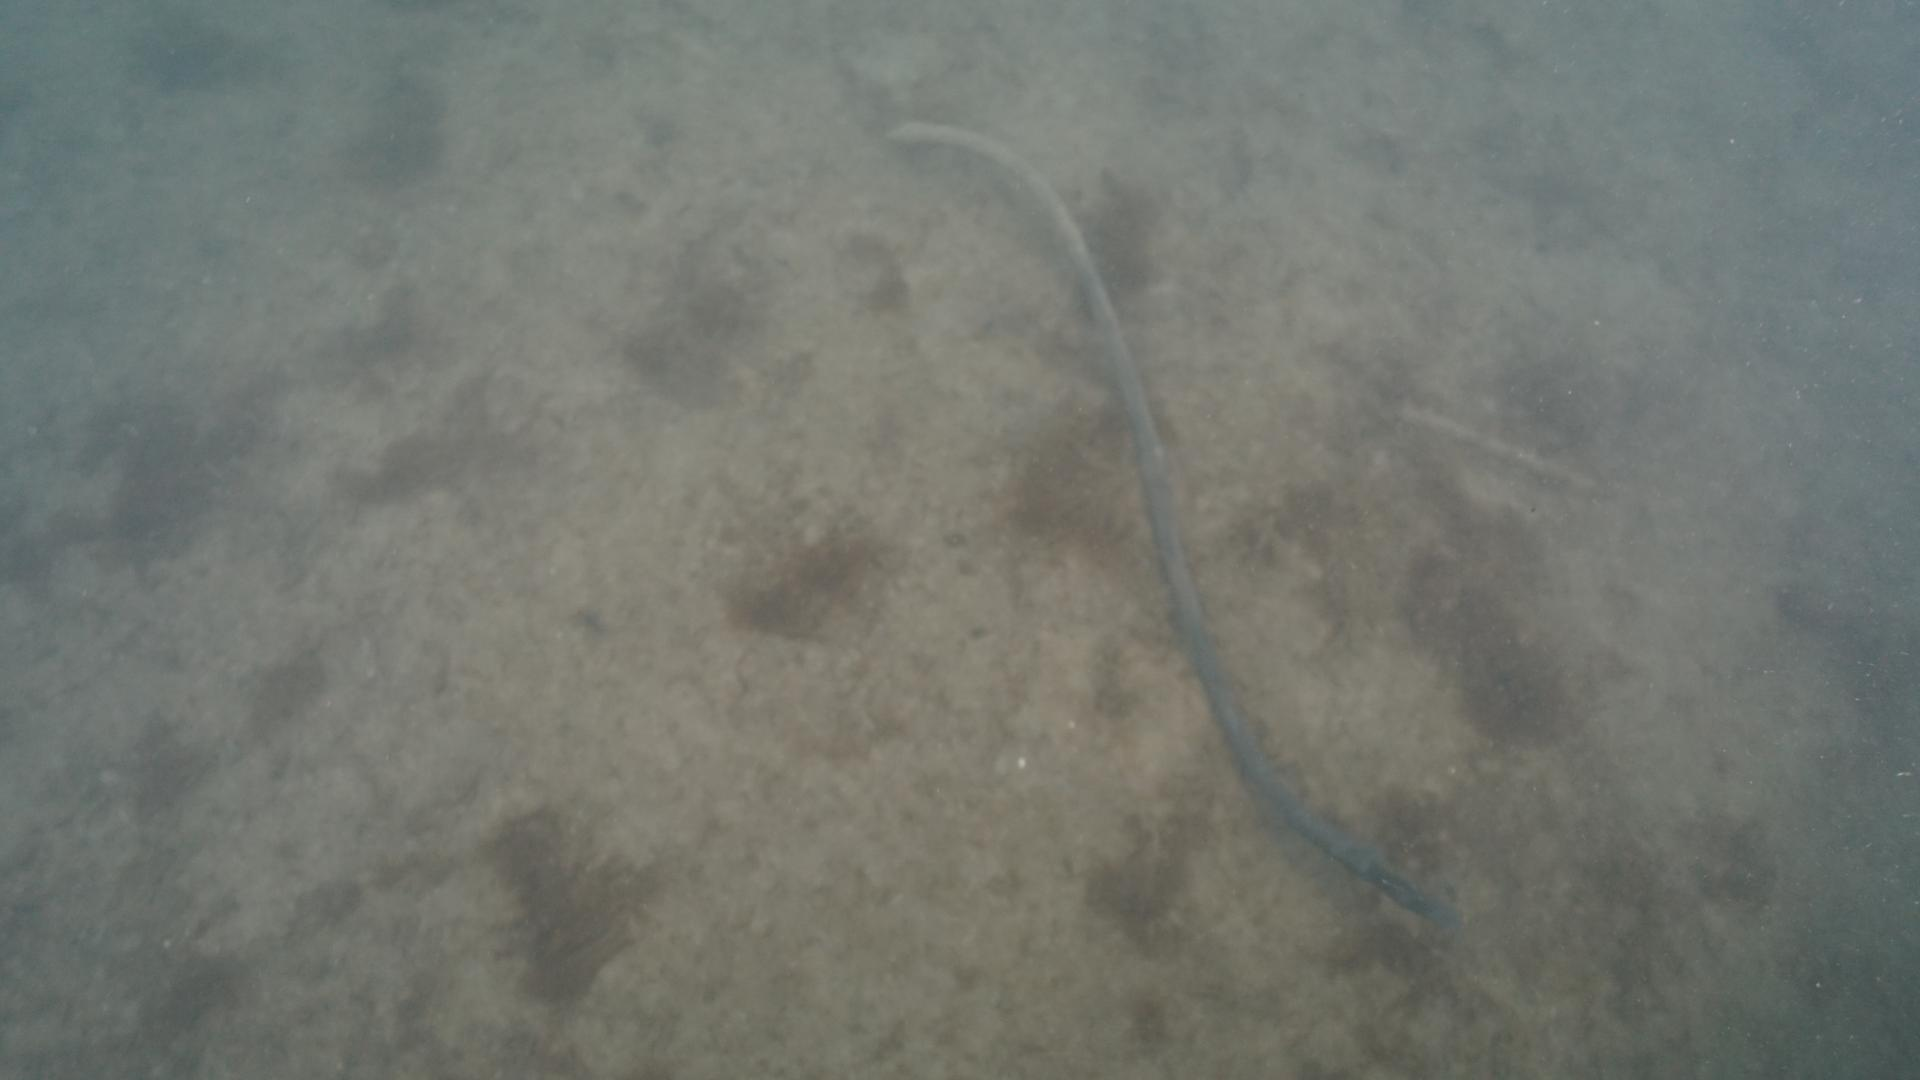wood: (880, 119, 1466, 932)
